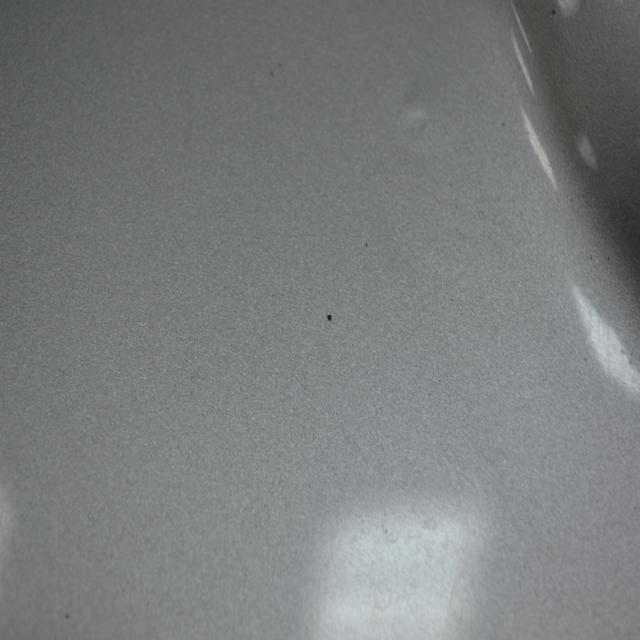dirt: (324, 308, 334, 327), (549, 4, 559, 20), (363, 239, 370, 256), (268, 63, 275, 80)
